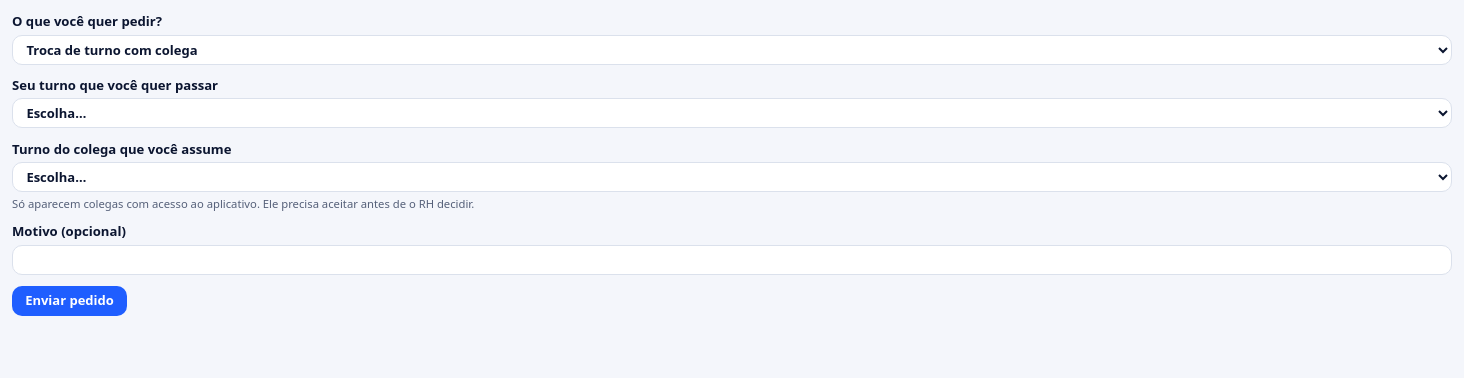
Test: FormPedido › não envia com campos faltando e mostra o erro do servidor
Step 1. Click the button "Enviar pedido" → (70, 301), box top-left (12, 286), bottom-right (127, 316)
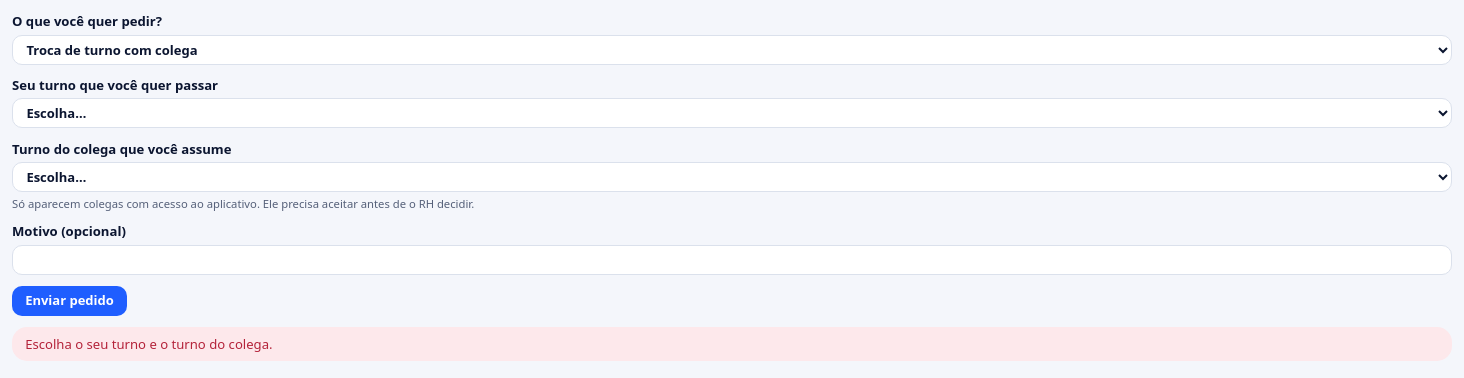
expect the text "Escolha o seu turno e o turno do colega." is shown: met, box top-left (12, 327), bottom-right (1452, 361)
Step 2. Select "seg, 01/02/2027 · 08:00 às 17:00" in the dropdown labelled "Seu turno que você quer passar" → (732, 113), box top-left (12, 98), bottom-right (1452, 128)
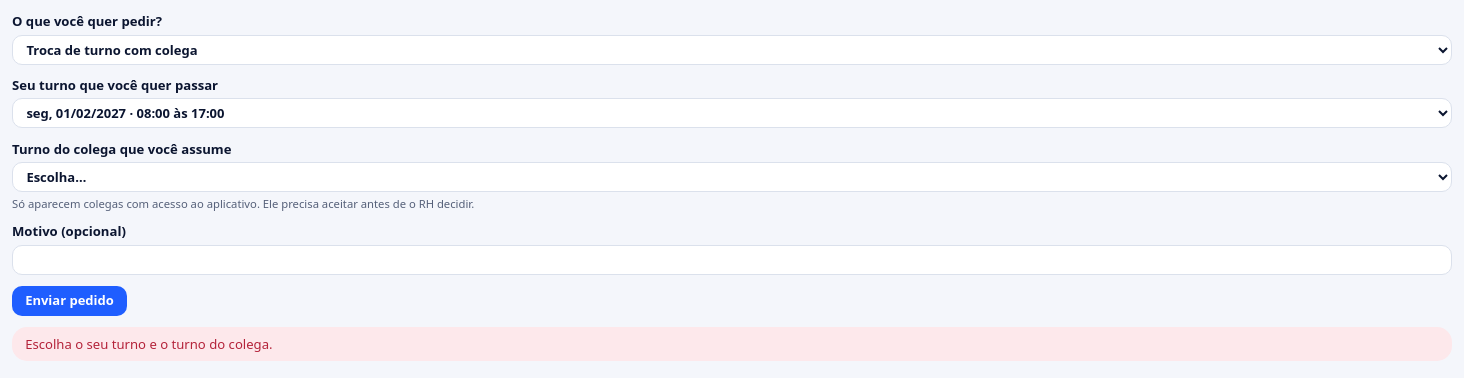
Step 3. Select "Bia · 01/02/2027 · 12:00–21:00" in the dropdown labelled "Turno do colega que você assume" → (732, 177), box top-left (12, 162), bottom-right (1452, 192)
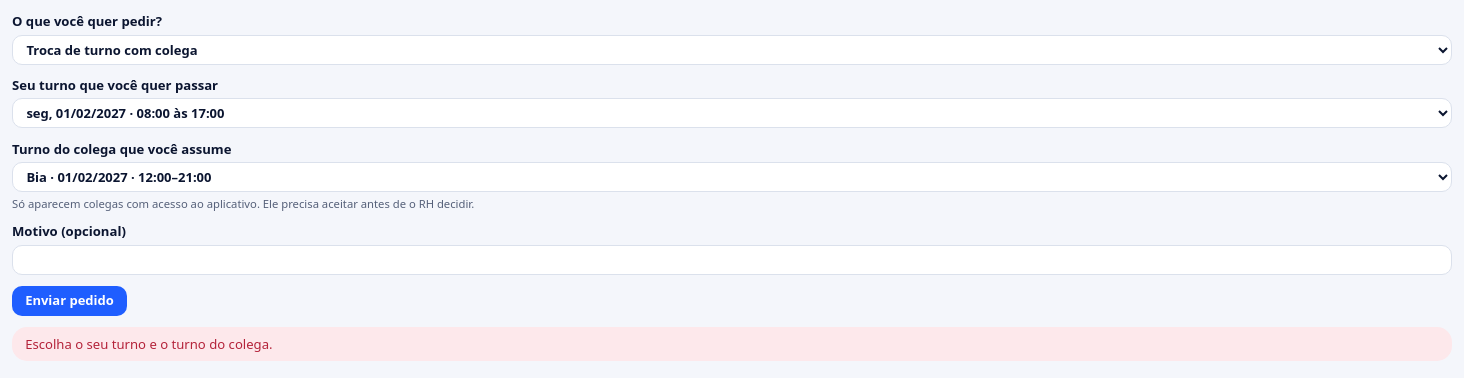
Step 4. Click the button "Enviar pedido" → (70, 301), box top-left (12, 286), bottom-right (127, 316)
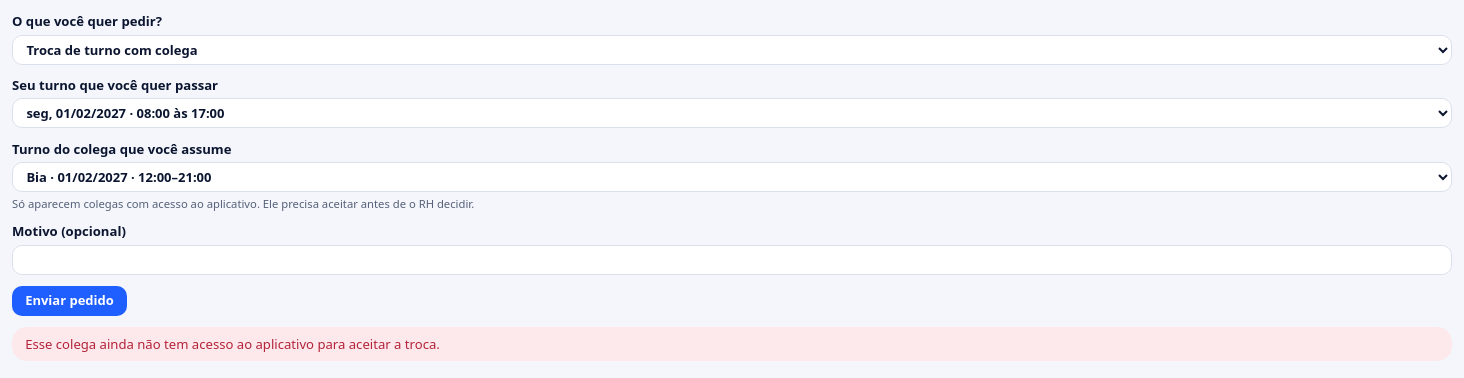
expect the text "Esse colega ainda não tem acesso ao aplicativo para aceitar a troca." is shown: met, box top-left (12, 327), bottom-right (1452, 361)
